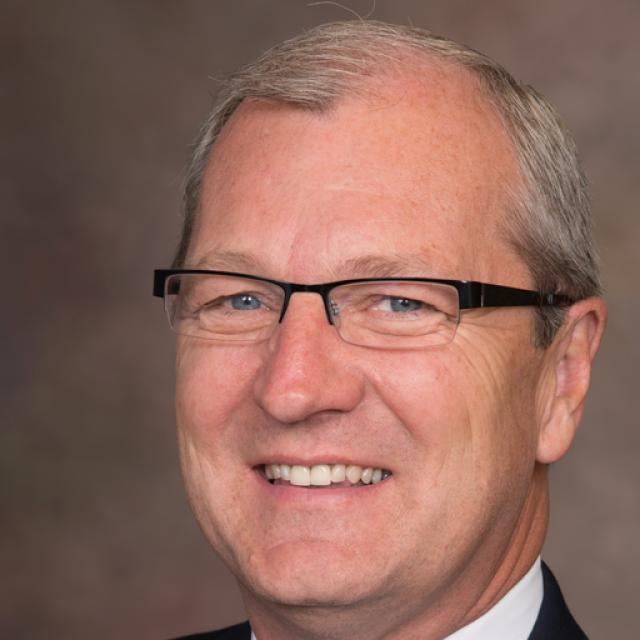happy: (174, 111, 545, 614)
